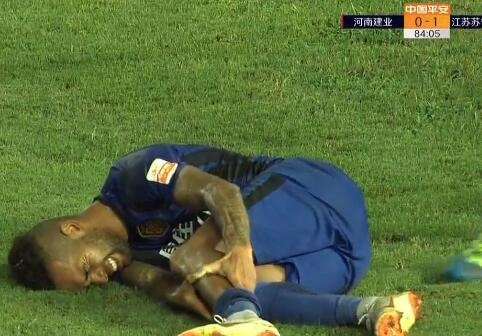falling: (10, 127, 423, 336)
